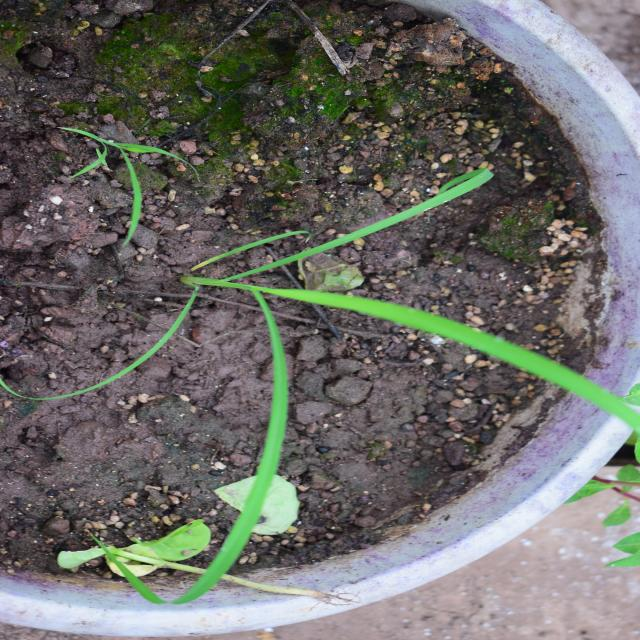barnyard_grass: (172, 47, 606, 516)
